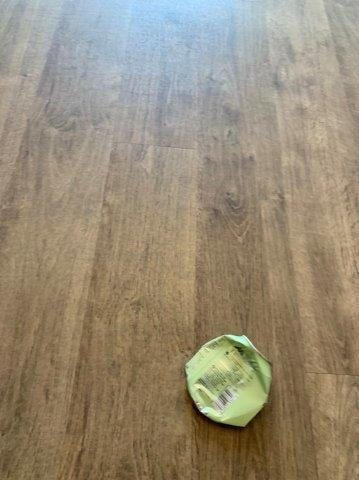kaleng: (185, 335, 272, 426)
